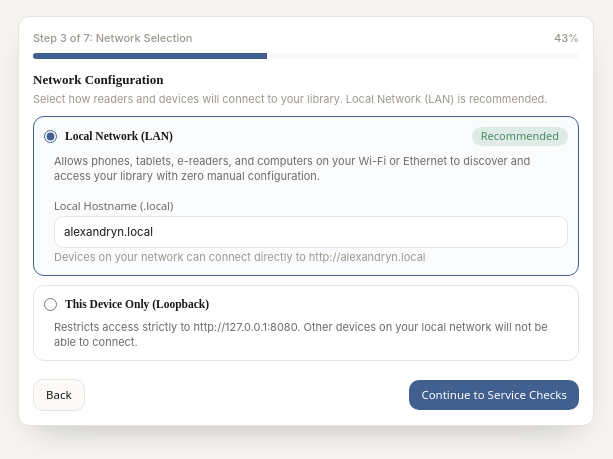
SetupScreen Wizard › selects LAN mode by default and saves network settings
This screenshot has width=613, height=459.
Expected: the radio button labelled "Local Network (LAN)" is checked, top-left (44, 130), bottom-right (57, 143)
Expected: the field labelled "Local Hostname (.local)" holds "alexandryn.local", top-left (54, 216), bottom-right (568, 248)
Click the button "Continue to Service Checks": (494, 395) top-left (409, 380), bottom-right (579, 410)
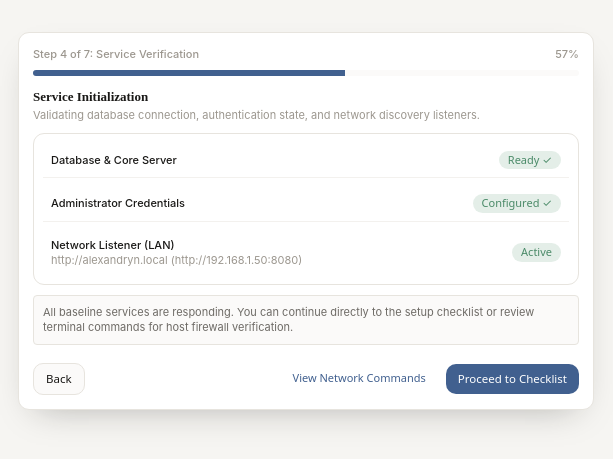
Expected: the element with test id "step-services" is shown, top-left (33, 88), bottom-right (579, 395)
